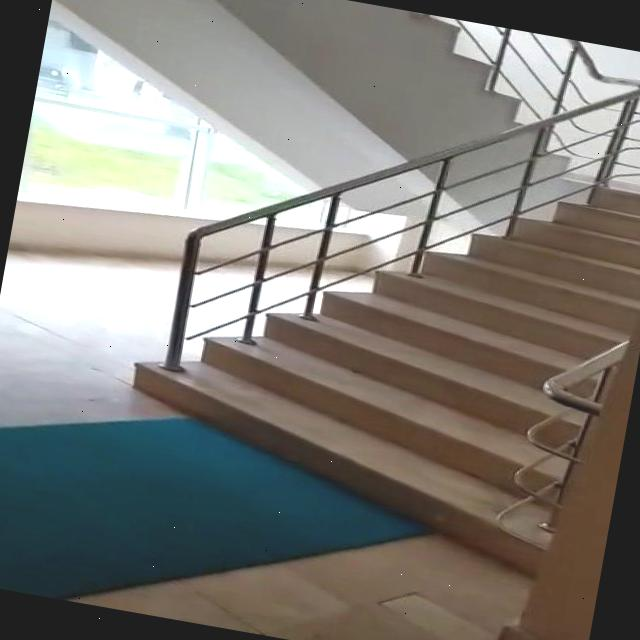stairs: (108, 108, 640, 587)
